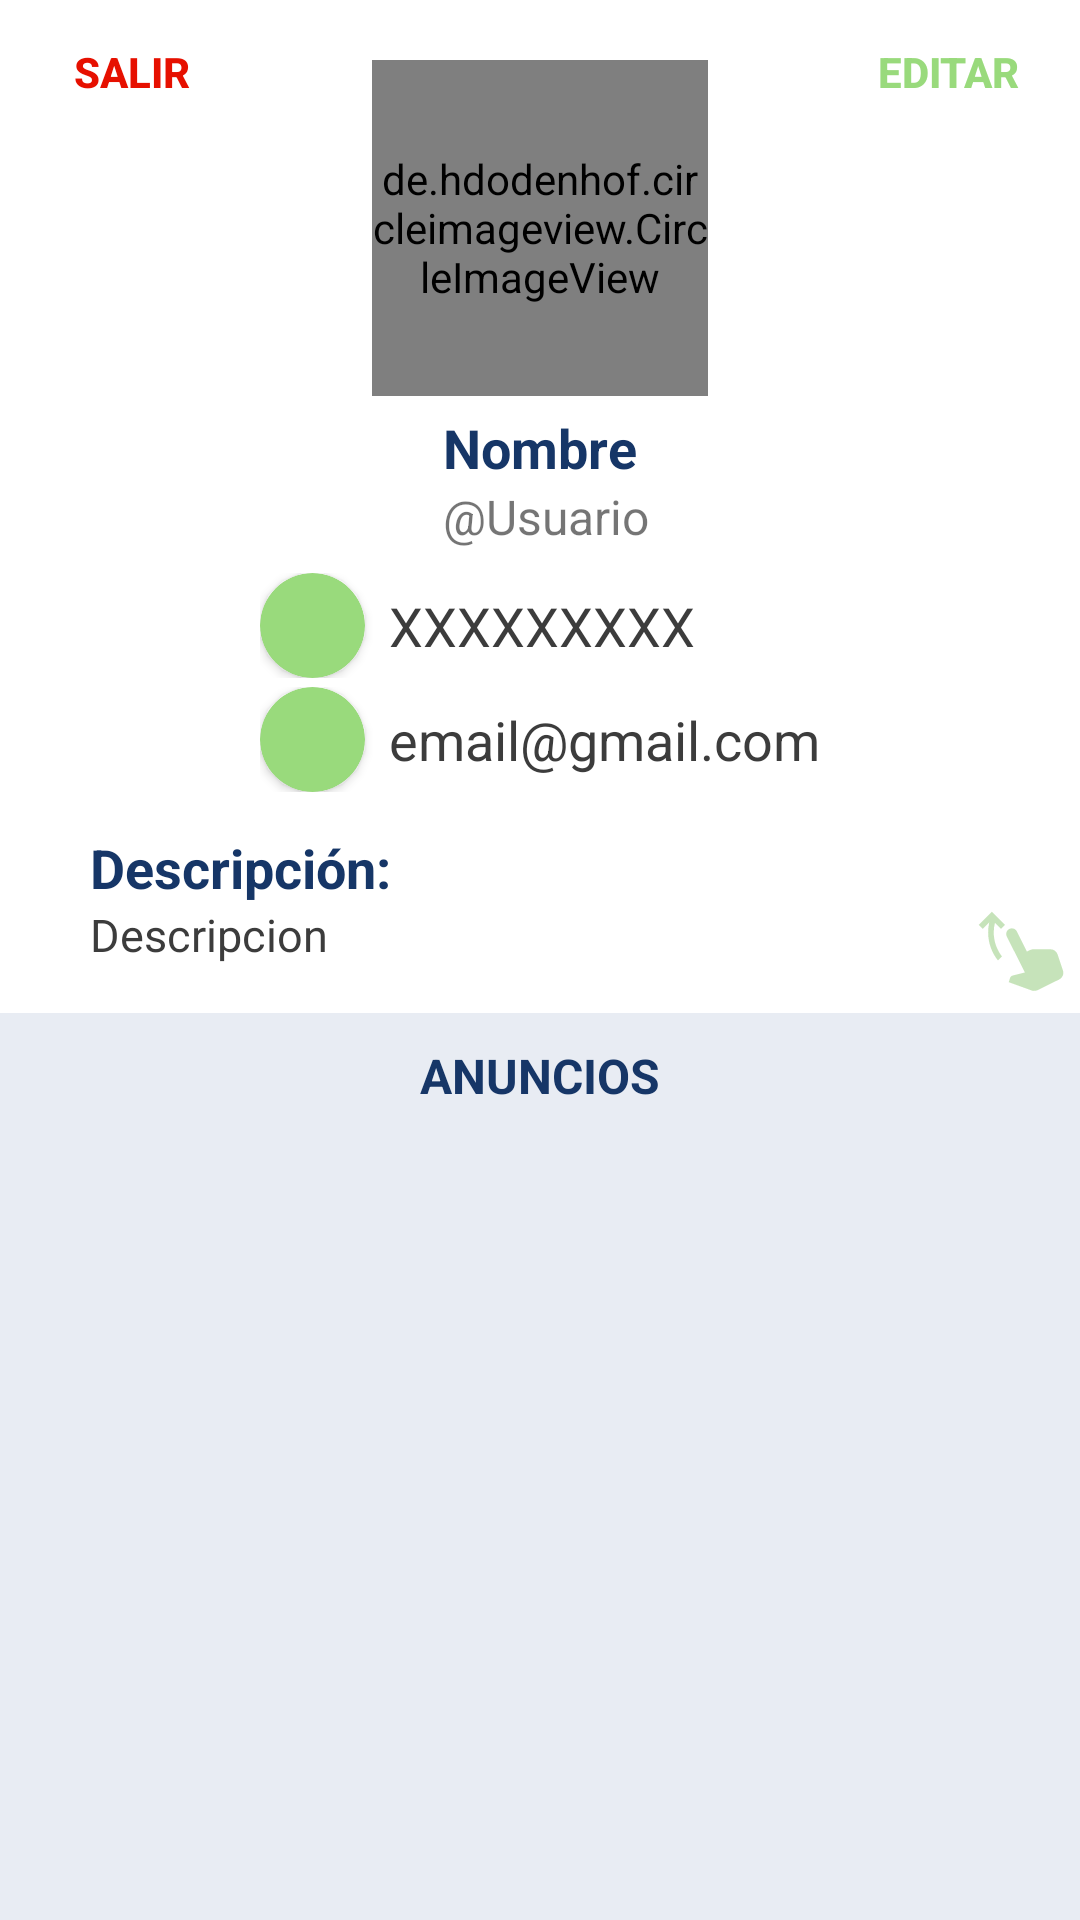

Screen size 1080w x 1920h. Icon name, then its center in pixels as [x,y]:
swipe up: [1021,951]
